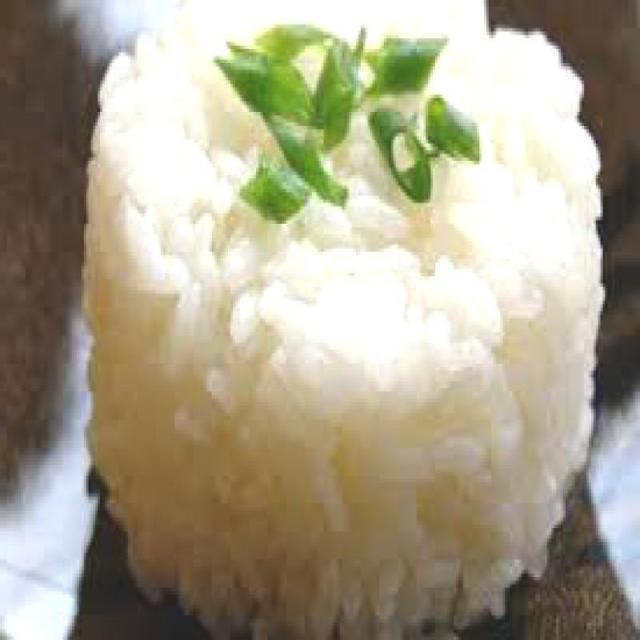Chicken -Chicken Inasal-: (88, 13, 609, 639)
